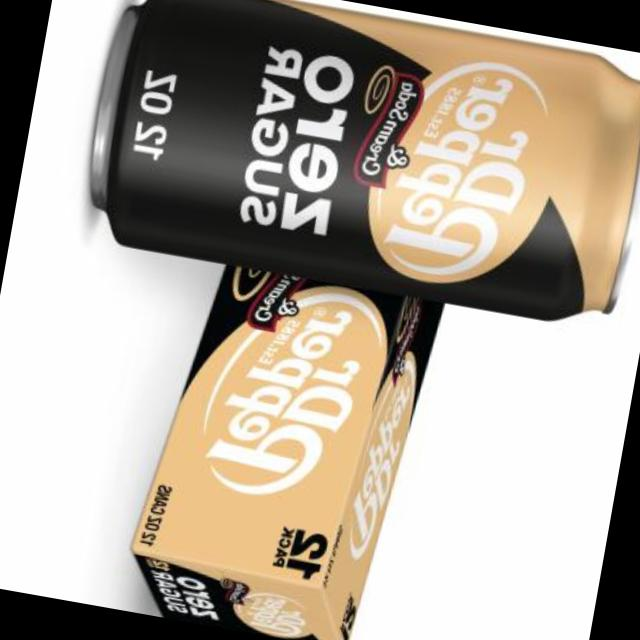metal: (94, 0, 640, 321)
